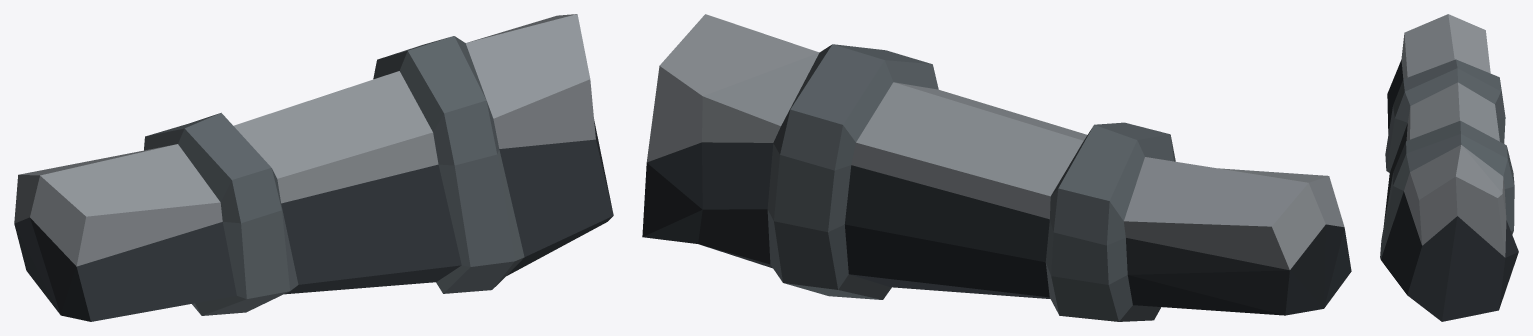
File: Chr_ArmLowerRight_Female_16_Static.fbx
3 views of the same model, side by side, from view 1: azimuth 30°, elevation 25°; view 2: azimuth 150°, elevation 25°; view 3: azimuth 270°, elevation 25° (orthographic). The views are drawn at different scales.
Parts seen in each view (by area): view 1: Chr_ArmLowerRight_Female_16_Static; view 2: Chr_ArmLowerRight_Female_16_Static; view 3: Chr_ArmLowerRight_Female_16_Static.
Boxes of the visible parts, bbox=[...] form: Chr_ArmLowerRight_Female_16_Static: bbox=[14, 14, 613, 321]; Chr_ArmLowerRight_Female_16_Static: bbox=[642, 14, 1351, 321]; Chr_ArmLowerRight_Female_16_Static: bbox=[1380, 14, 1518, 321].
Bounding box in the file's own units: 0.2903 × 0.1178 × 0.0888.
